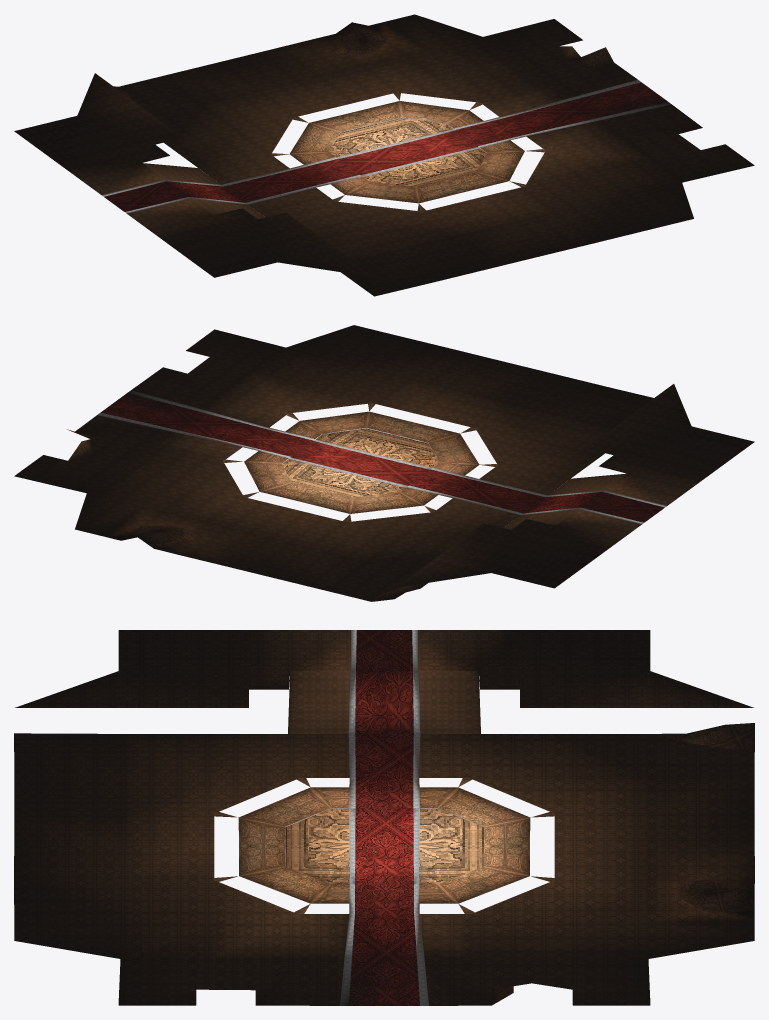
Rendered from test-floor-nomat.glb.
The picture shows the model from 3 angles, top to bottom: view 1: azimuth 30°, elevation 25°; view 2: azimuth 150°, elevation 25°; view 3: azimuth 270°, elevation 25°; orthographic projection. The views are drawn at different scales.
Visible parts, largest first — view 1: floor; view 2: floor; view 3: floor.
Part boxes in pixels (x1,y1,x2,y2): floor: (14, 14, 754, 296); floor: (14, 325, 754, 601); floor: (14, 630, 754, 1005).
Size of the model in its own units: 330 by 11.86 by 295.
1 material, 1 textured.
